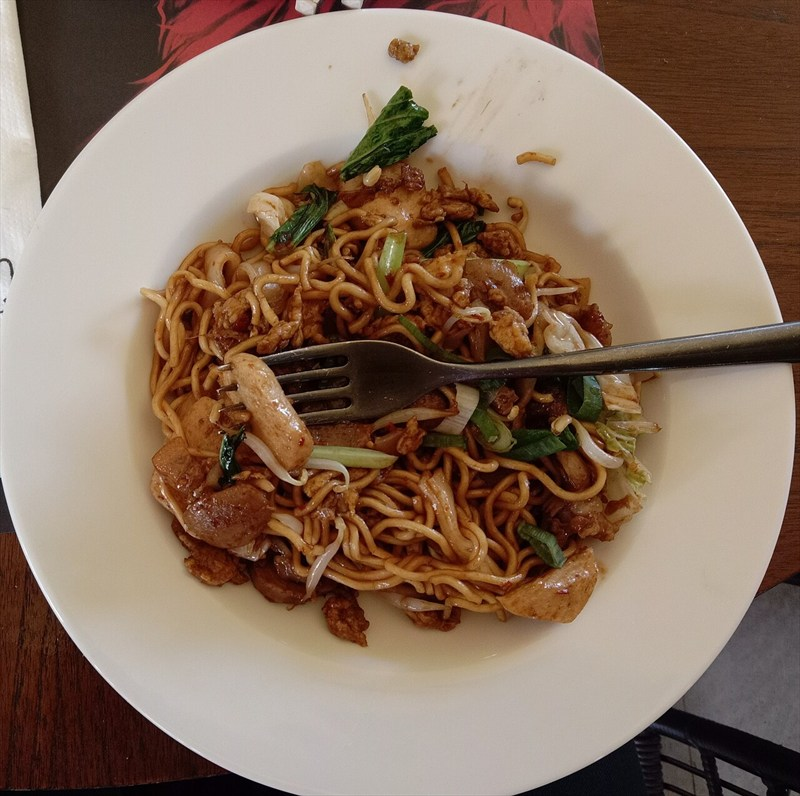Mie Goreng: (57, 19, 708, 651)
